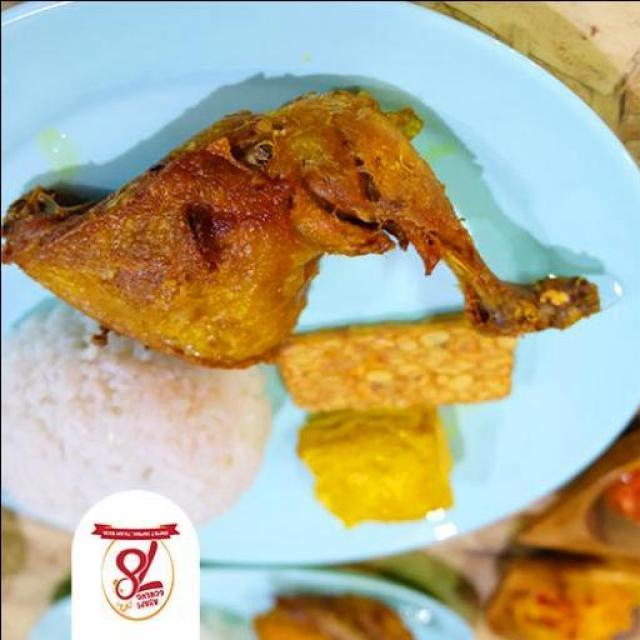ayam goreng: (0, 83, 602, 369)
nasi: (0, 295, 269, 536)
piring: (1, 1, 640, 565)
tahu goreng: (289, 408, 461, 522)
tempe goreng: (269, 318, 517, 404)
